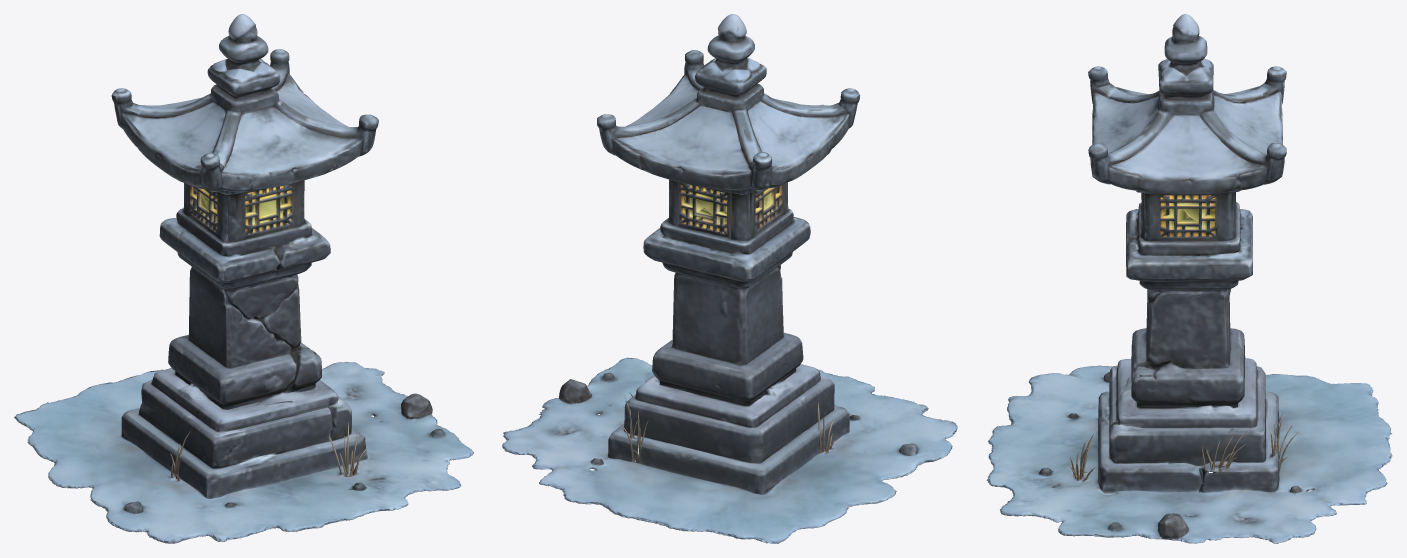
The model's file is japanese-lantern.glb.
The picture shows the model from 3 angles, left to right: view 1: azimuth 30°, elevation 25°; view 2: azimuth 150°, elevation 25°; view 3: azimuth 270°, elevation 25°; orthographic projection.
Size of the model in its own units: 0.7422 by 0.8565 by 0.7179.
1 material, 1 textured.
